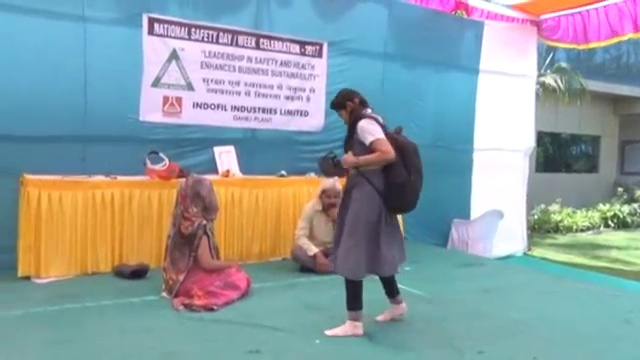helmet_off: (175, 177, 218, 221), (331, 88, 362, 128), (319, 179, 343, 215)
person: (324, 87, 424, 340), (163, 175, 251, 311), (291, 176, 353, 273)
